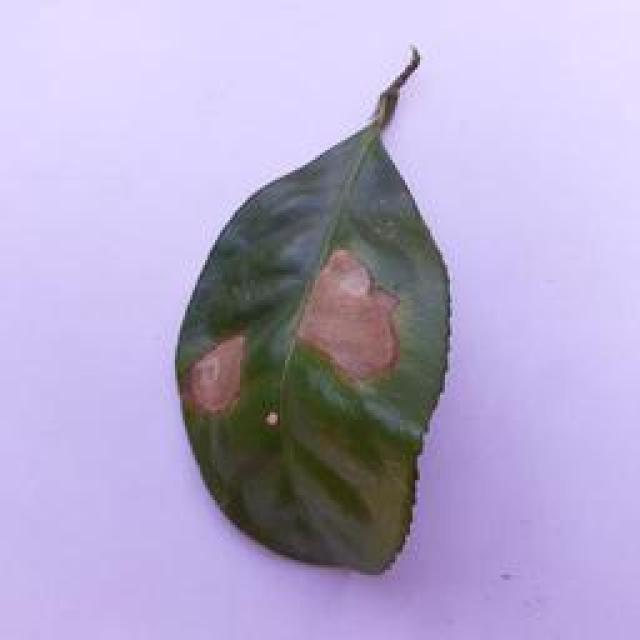Gray Blight: (172, 37, 468, 578)
